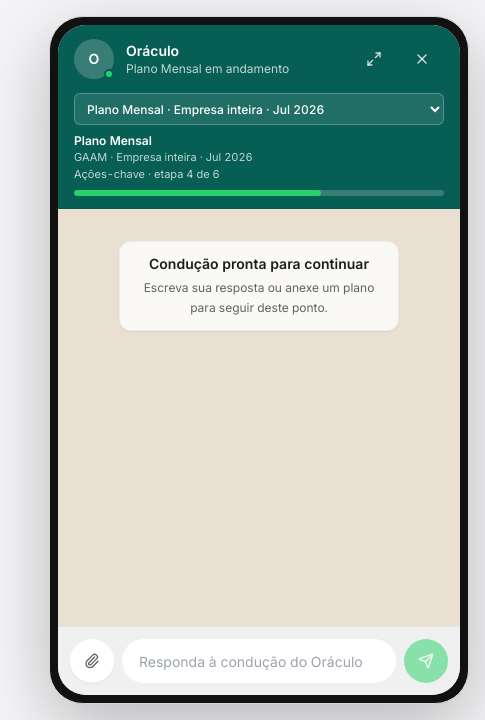
it: OraclePanel recovery › mantém a condução mais recente e permite trocar sem uma proposta antiga assumir o painel
Expected: the text "Plano Mensal em andamento" is shown, 126,61 -> 289,77
Expected: the text "Pronto para conferir" is not shown
Select "Plano Estratégico · Empresa inteira · 2026" in the dropdown named "Condução atual" at [259, 109], box 74,93 -> 444,125
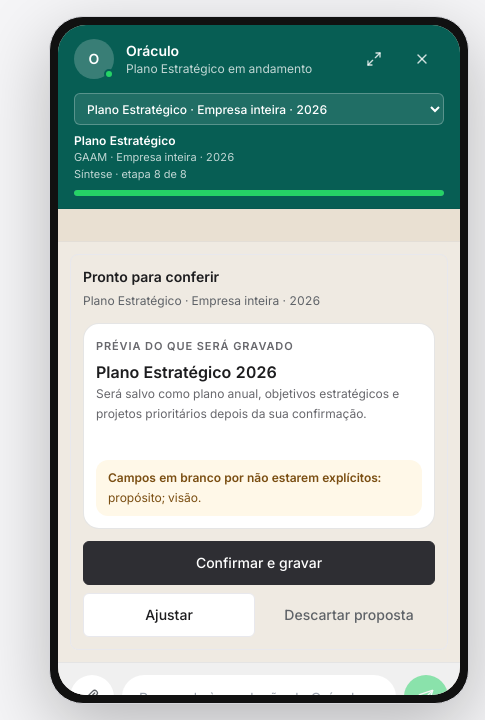
Now the text "Pronto para conferir" is shown, box 83,268 -> 219,285
Now the text "Plano Estratégico 2026" is shown, box 96,362 -> 277,382
